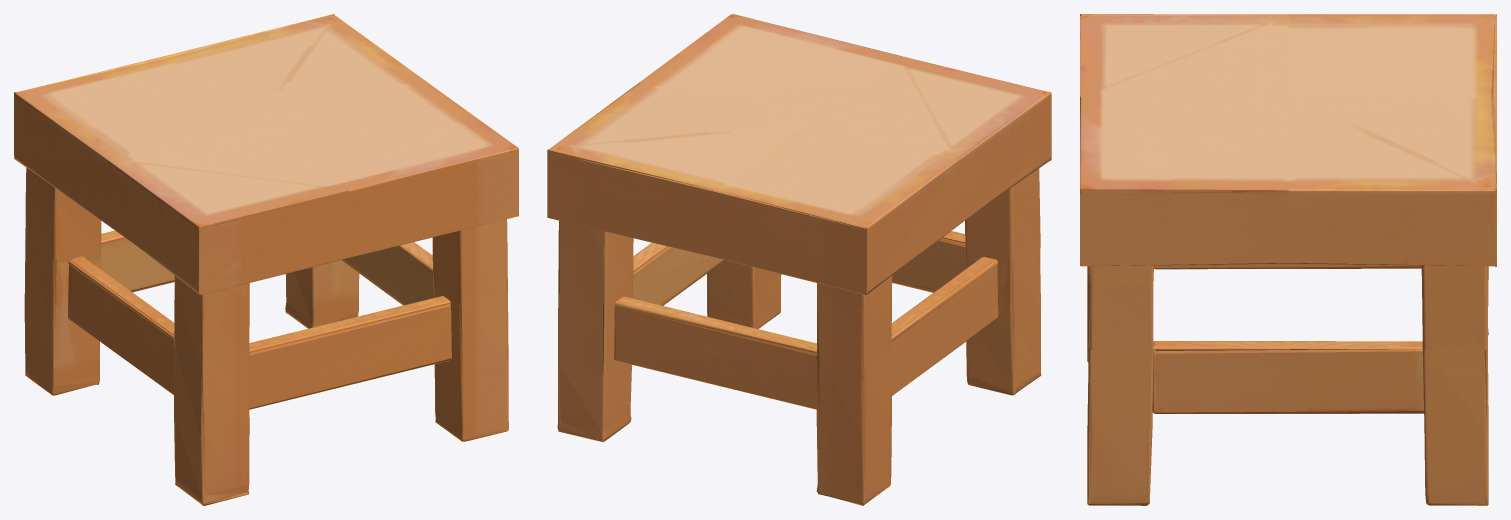
File: towerPlatform.glb
3 renders of one model, left to right at view 1: azimuth 30°, elevation 25°; view 2: azimuth 150°, elevation 25°; view 3: azimuth 270°, elevation 25°, orthographic. The views are drawn at different scales.
Size of the model in its own units: 2.7 by 2.3 by 2.7.
Materials: 1 (1 with a texture image).
